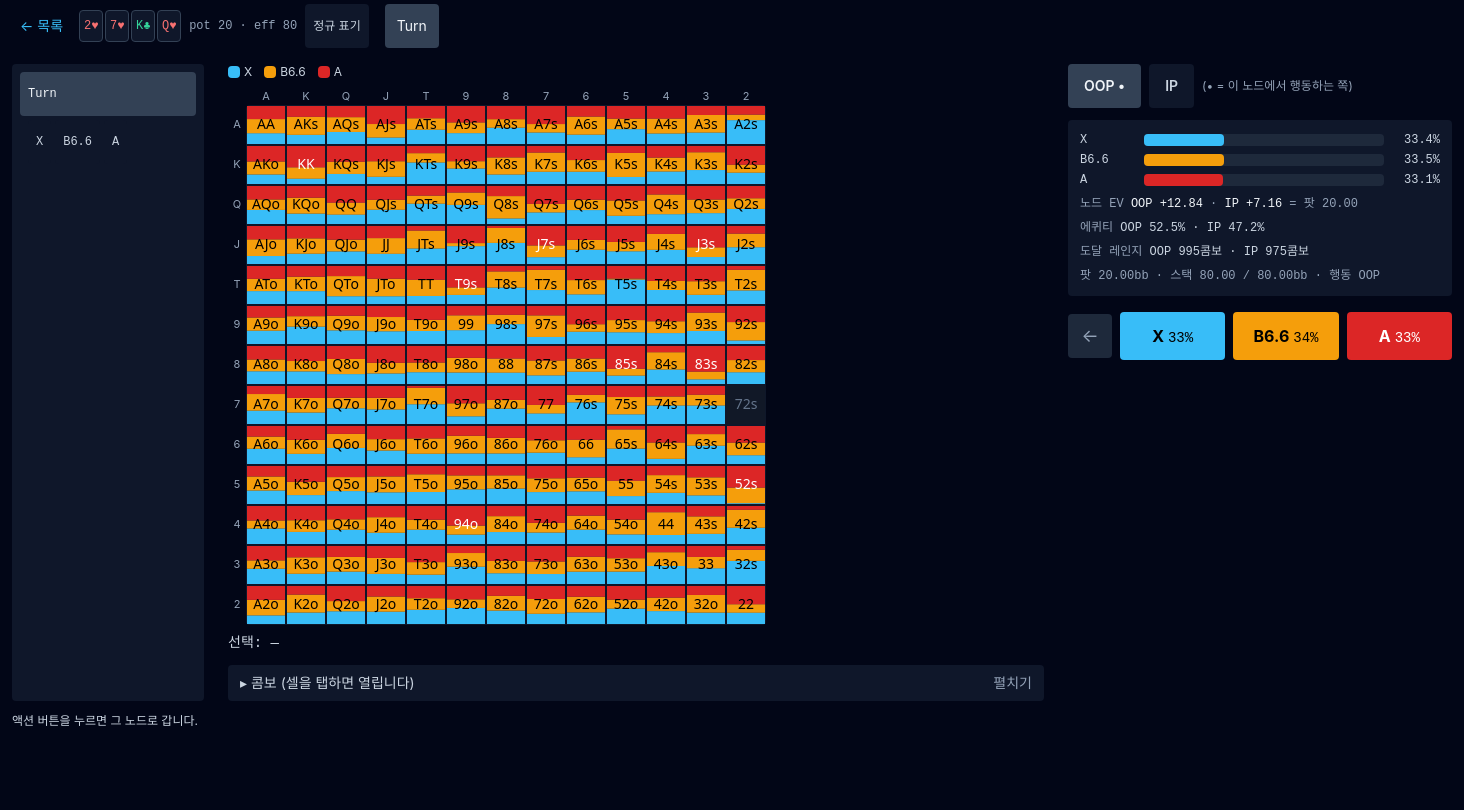
Test: P5 3.2 탐색기 — 행동 노드 › P5 3.2 액션 버튼 수 = 응답의 actions 이고 탭하면 childLine 으로 이동한다
Check: the button with test id "solve-action-X" is shown, box [1120,312,1225,360]
Click the button with test id "solve-action-B6.6": (1286,336) [1233,312,1339,360]
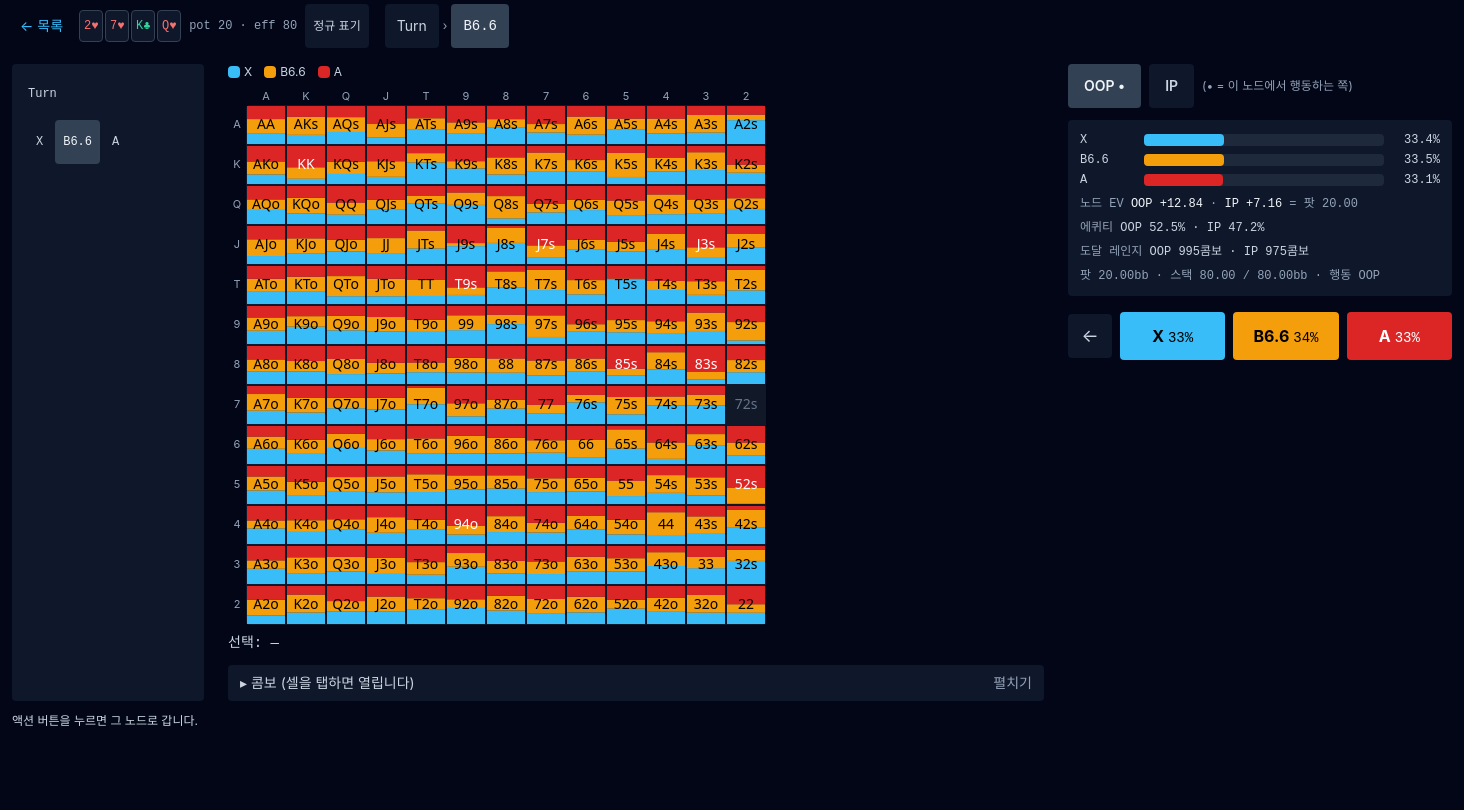
Check: the button "B6.6" in the row of "pot 20 · eff 80" is shown, box [451,4,509,48]
